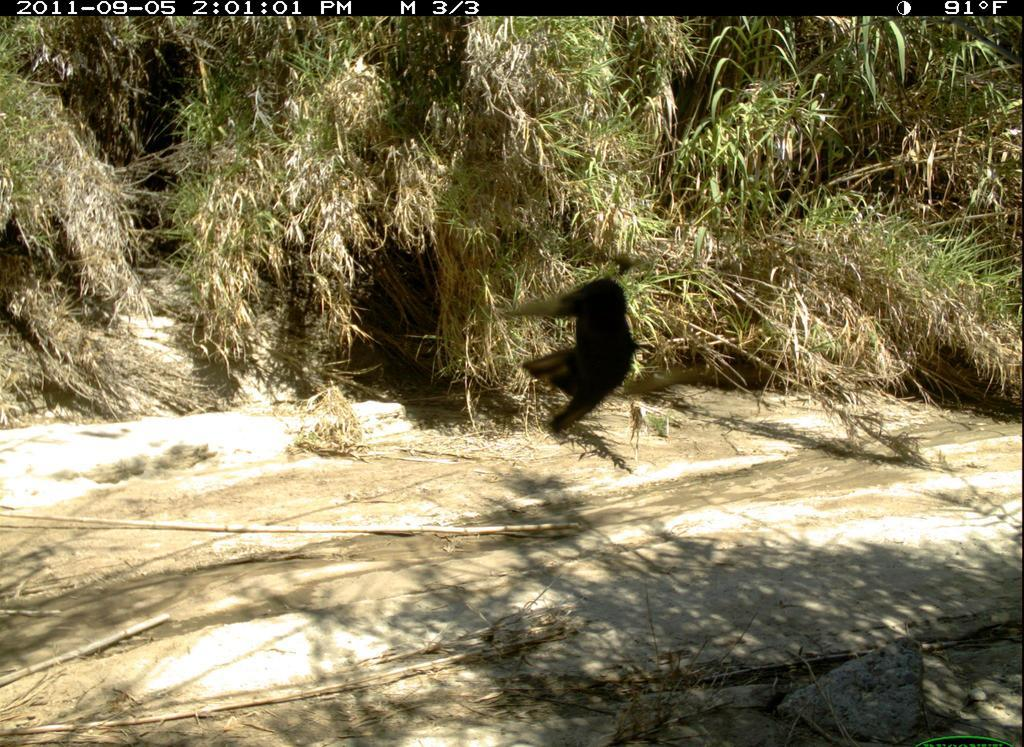bird: (495, 271, 644, 442)
